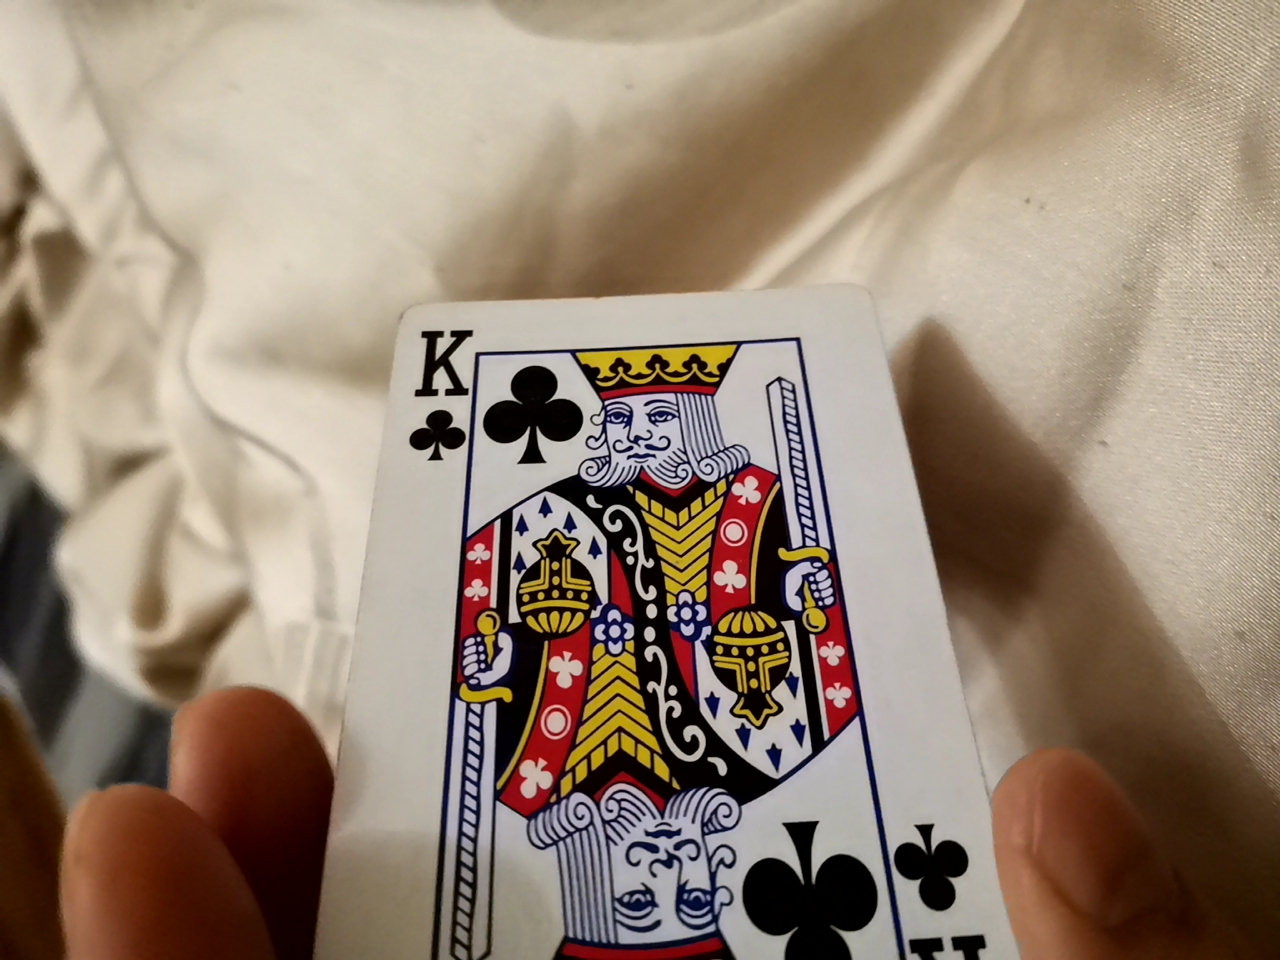mh k: (356, 250, 1011, 960)
